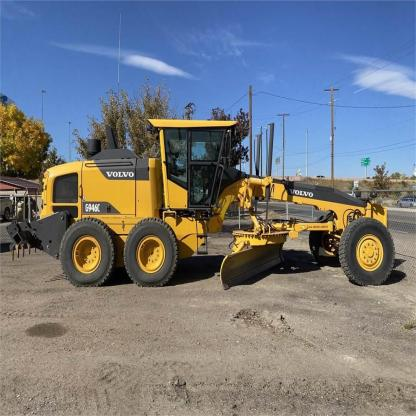bull_dozer/loader/grader: (9, 107, 398, 294)
